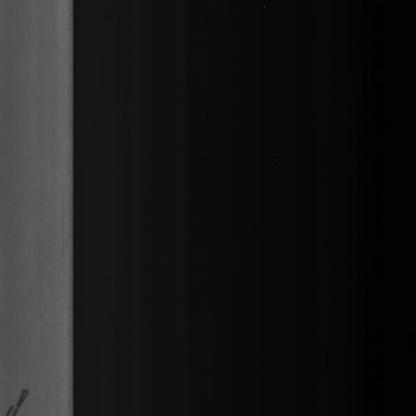oil_spot: (5, 382, 29, 416)
